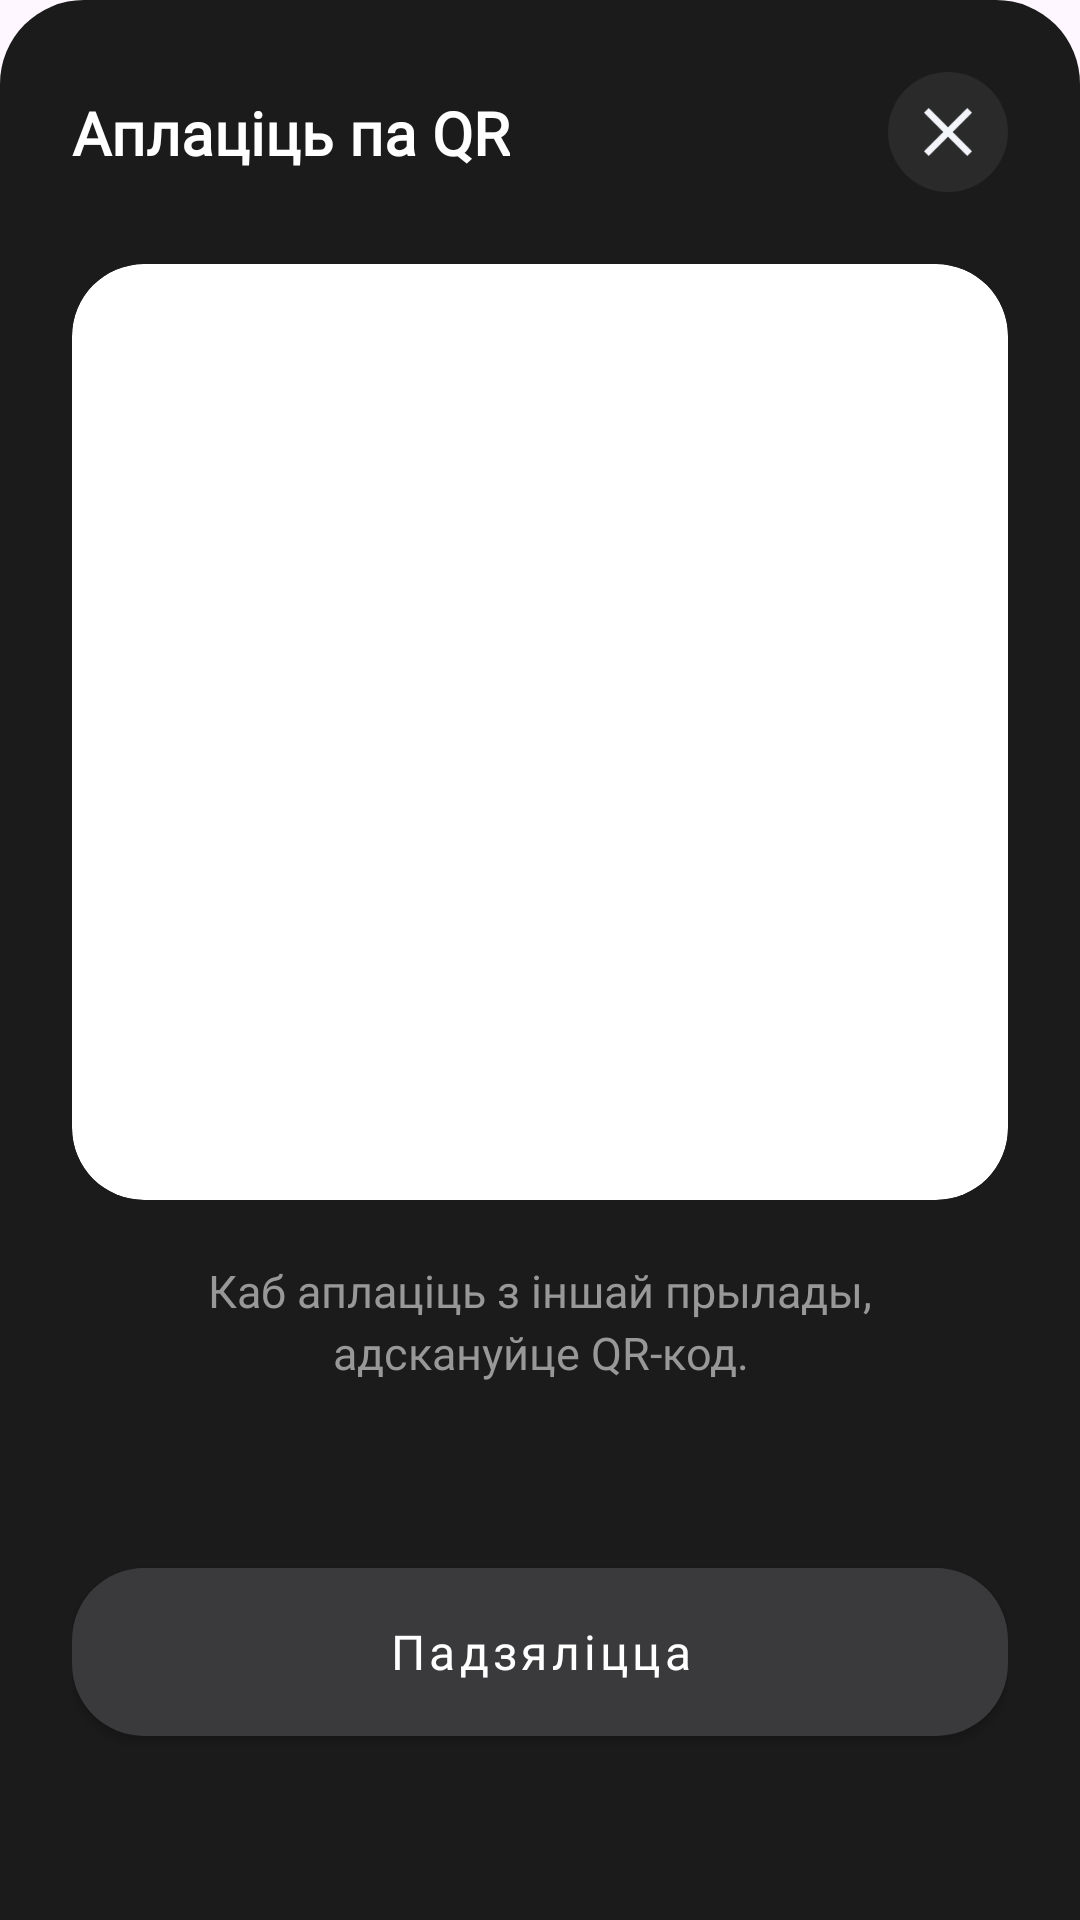

Point at icon controls on the screen. Image size 1080x1920, points as [x,y].
close: [948,132]
